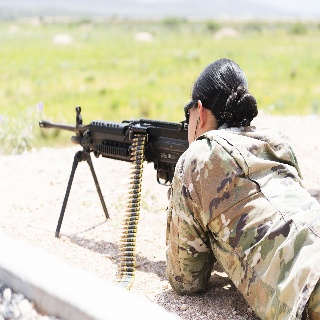rifle: (38, 104, 189, 241)
